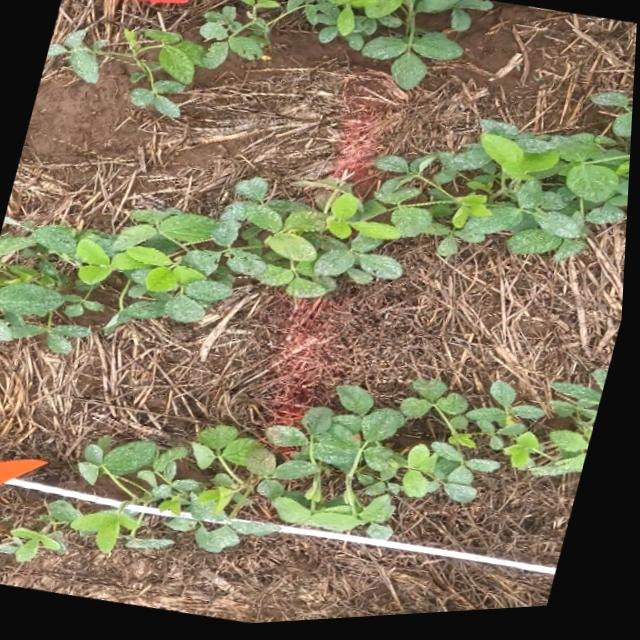soy_plant: (0, 101, 634, 346), (82, 379, 611, 555), (47, 0, 492, 119), (9, 500, 176, 561)
